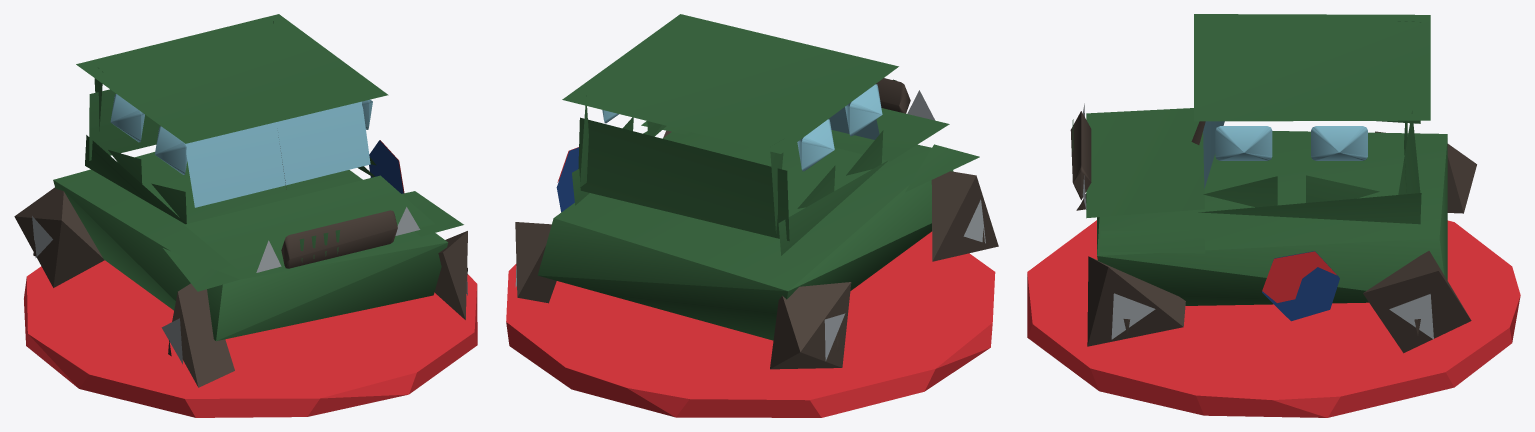
File: south_korea_militia_lod1.glb
3 renders of one model, left to right at view 1: azimuth 30°, elevation 25°; view 2: azimuth 150°, elevation 25°; view 3: azimuth 270°, elevation 25°, orthographic. The views are drawn at different scales.
Parts seen in each view (by area): view 1: body_hull, base_pedestal; view 2: body_hull, base_pedestal; view 3: body_hull, base_pedestal.
Part boxes in pixels (x1,y1,x2,y2): body_hull: (14,14,467,387); base_pedestal: (24,260,477,417); body_hull: (515,14,998,369); base_pedestal: (506,231,995,417); body_hull: (1070,14,1476,353); base_pedestal: (1027,220,1520,417).
Size of the model in its own units: 0.7751 by 0.4335 by 0.7751.
